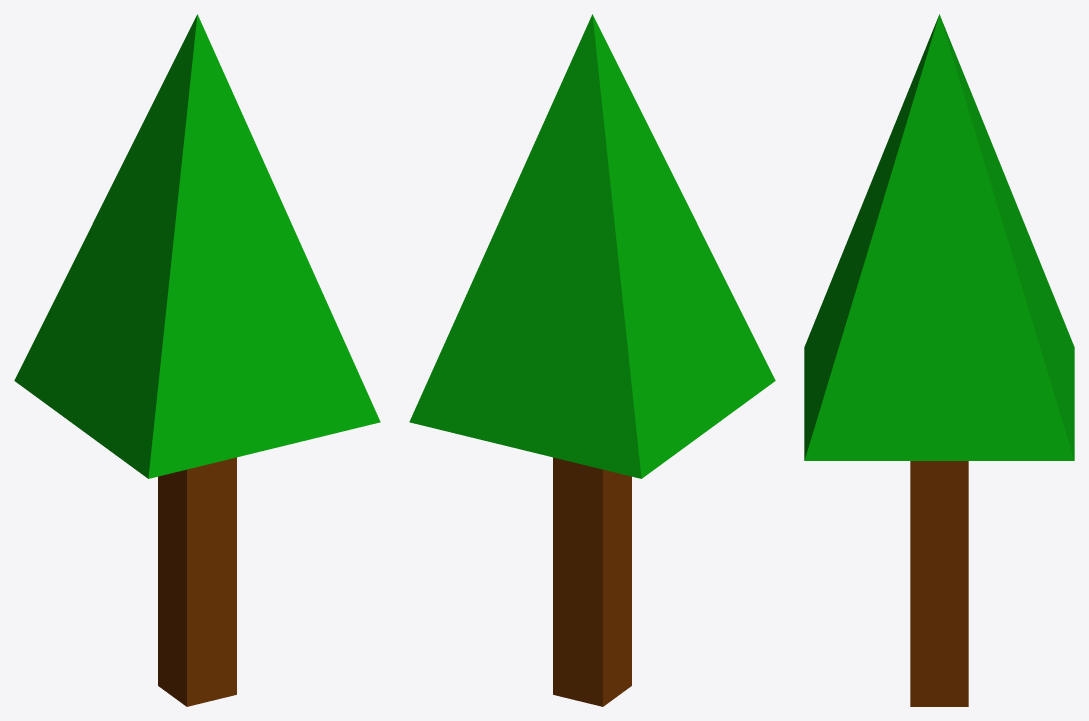
Rendered from Tree_2.fbx.
3 renders of one model, left to right at view 1: azimuth 30°, elevation 25°; view 2: azimuth 150°, elevation 25°; view 3: azimuth 270°, elevation 25°, orthographic.
Visible parts, largest first — view 1: Tree_2; view 2: Tree_2; view 3: Tree_2.
Boxes of the visible parts, x1=… form: Tree_2: x1=14, y1=14, x2=380, y2=706; Tree_2: x1=409, y1=14, x2=775, y2=706; Tree_2: x1=804, y1=14, x2=1074, y2=706.
Size of the model in its own units: 1.59 by 1.59 by 4.42.
